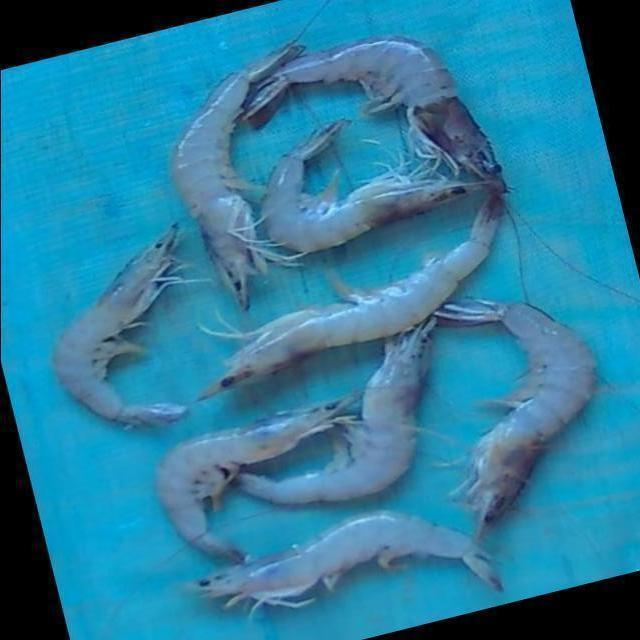shrimp: (200, 192, 503, 398), (241, 35, 506, 190), (434, 298, 597, 533), (235, 316, 435, 504), (171, 44, 303, 309), (155, 394, 359, 563), (259, 118, 485, 253), (197, 511, 502, 611), (52, 224, 187, 424)
